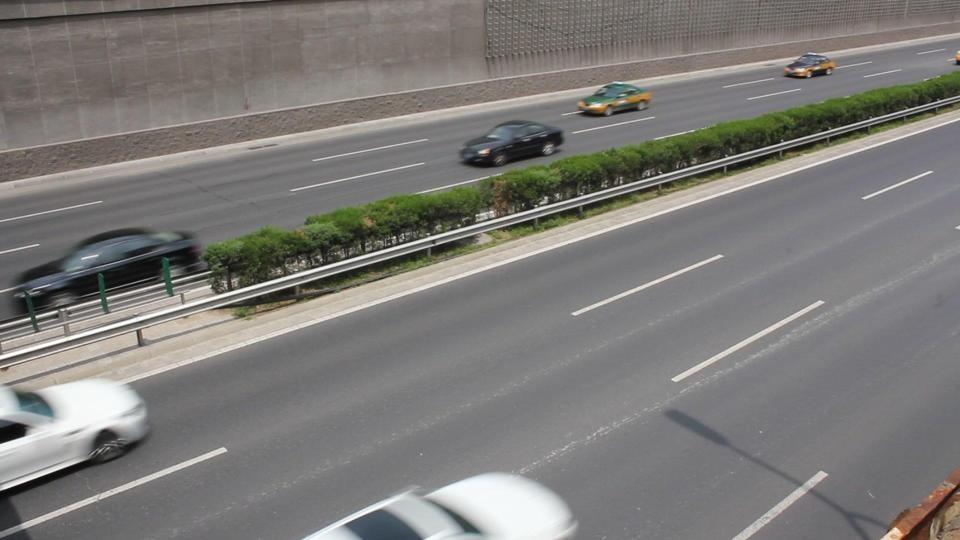car: (302, 470, 579, 536), (1, 377, 152, 495), (10, 227, 205, 301), (459, 119, 565, 167), (575, 81, 653, 117), (783, 53, 837, 78)
